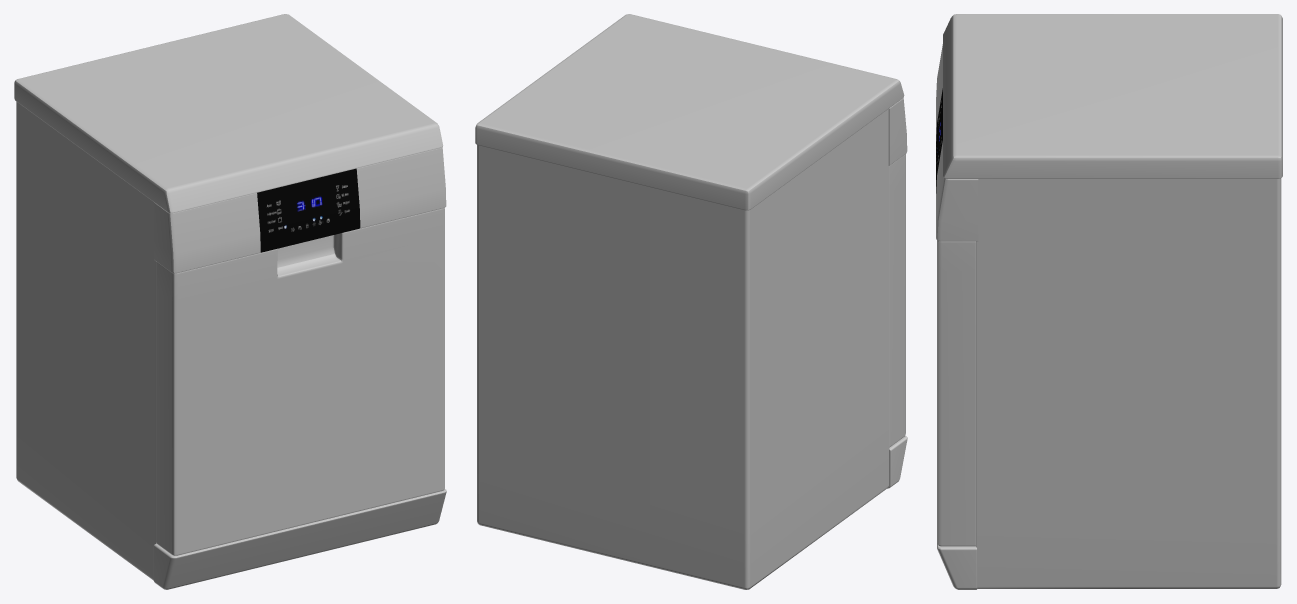
File: Dishwasher.fbx
3 renders of one model, left to right at view 1: azimuth 30°, elevation 25°; view 2: azimuth 150°, elevation 25°; view 3: azimuth 270°, elevation 25°, orthographic. The views are drawn at different scales.
Parts seen in each view (by area): view 1: cap, body, body_up, body_panel, body_down; view 2: body, body_up, cap, body_panel, body_down; view 3: body, body_up, cap, body_panel, body_down.
Part boxes in pixels (x1,y1,x2,y2): cap: (156,208,444,555); body: (16,101,156,580); body_up: (14,14,443,213); body_panel: (154,147,446,273); body_down: (153,489,446,589); body: (477,109,889,589); body_up: (475,14,904,210); cap: (889,154,905,447); body_panel: (888,98,907,165); body_down: (887,435,907,488); body: (976,178,1281,588); body_up: (943,14,1282,178); cap: (937,240,975,546); body_panel: (936,44,978,241); body_down: (937,543,977,589).
Size of the model in its own units: 106 by 147 by 106.
8 materials, 1 textured.
